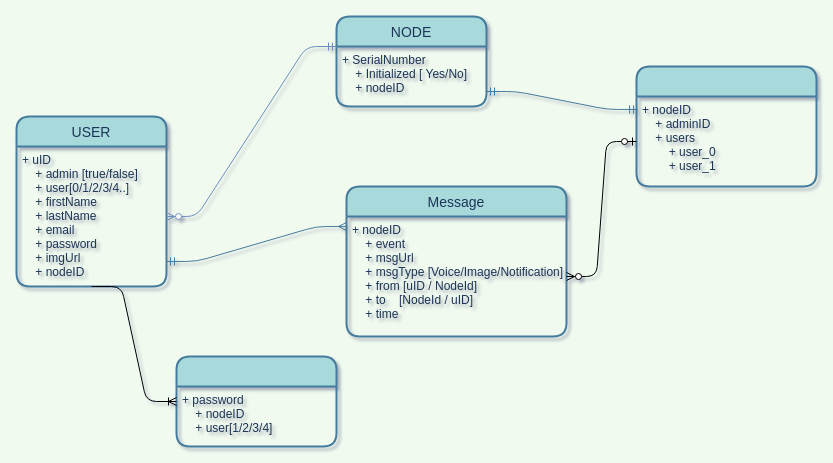
The diagram is 833 pixels wide and 463 high, and some of its shapes have lost their labels. The box of each missing label's shape, as (x1, y1, x2, y2) in pixels:
INITNODE: (635, 65, 817, 187)
PENDING_USER: (175, 355, 337, 447)
